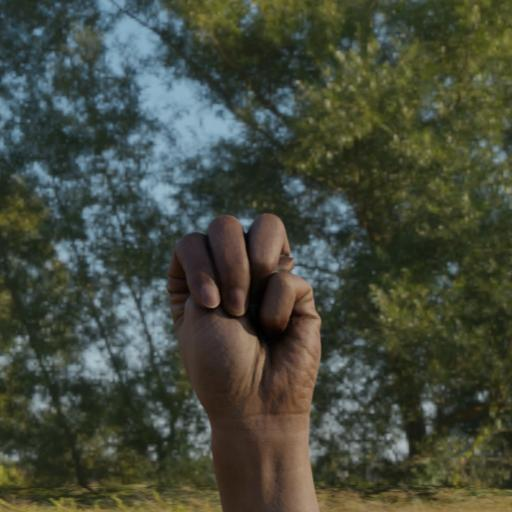M: (160, 205, 337, 450)
